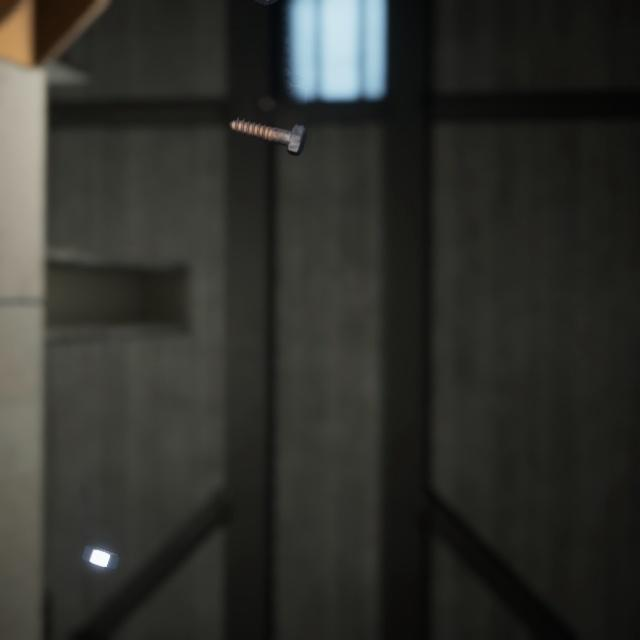bolt: (224, 100, 310, 147)
nut: (77, 518, 123, 551)
